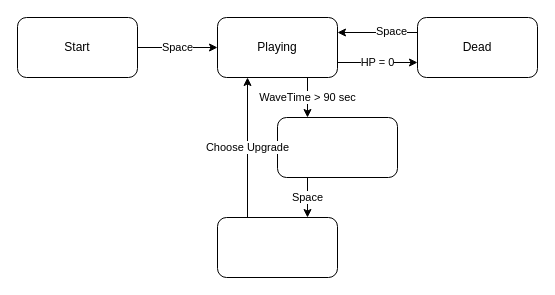
Image size: 555x295. Some labels were removed from this diagram. Each missing label, with the centre of its shape:
"Upgrade" goes at (277,247).
"Waveover" goes at (337,147).
